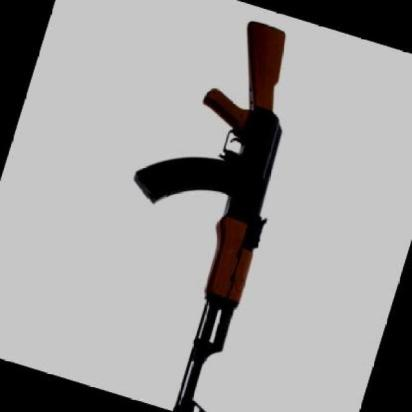Gun: (55, 0, 346, 412)
